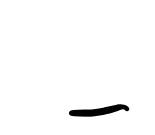minus: (69, 104, 129, 117)
